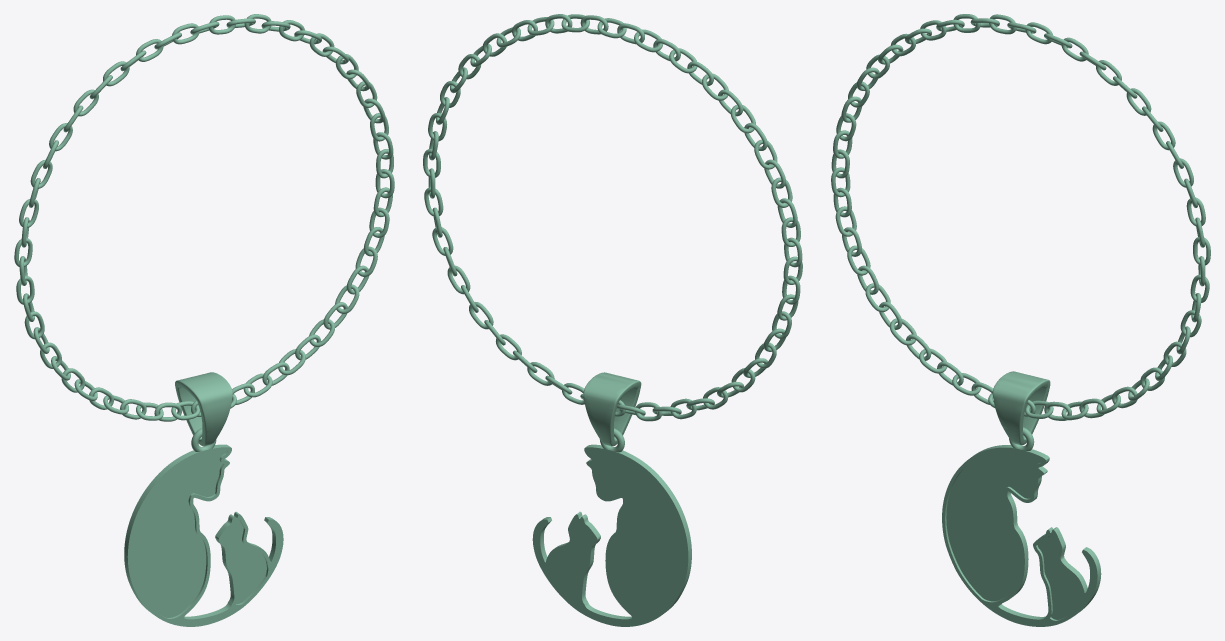
The picture shows the model from 3 angles, left to right: view 1: azimuth 30°, elevation 25°; view 2: azimuth 150°, elevation 25°; view 3: azimuth 330°, elevation 25°; orthographic projection.
Parts seen in each view (by area): view 1: Rhinoceros Binary STL ( Jan 9 2023 ) (×2), PingenteGato1Render.3dm; view 2: Rhinoceros Binary STL ( Jan 9 2023 ) (×2), PingenteGato1Render.3dm; view 3: Rhinoceros Binary STL ( Jan 9 2023 ) (×2), PingenteGato1Render.3dm.
Boxes of the visible parts, x1,y1,x2,y2 form: Rhinoceros Binary STL ( Jan 9 2023 ) (×2): (124,372,283,626); PingenteGato1Render.3dm: (14,14,394,421); Rhinoceros Binary STL ( Jan 9 2023 ) (×2): (532,372,691,626); PingenteGato1Render.3dm: (423,14,802,421); Rhinoceros Binary STL ( Jan 9 2023 ) (×2): (942,371,1101,626); PingenteGato1Render.3dm: (831,14,1210,420).
Bounding box in the file's own units: 2.19 × 3.34 × 0.2704.
